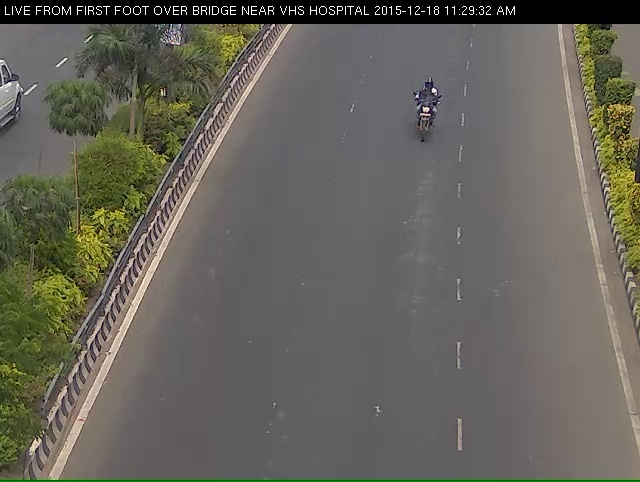Person: (408, 91, 442, 161)
